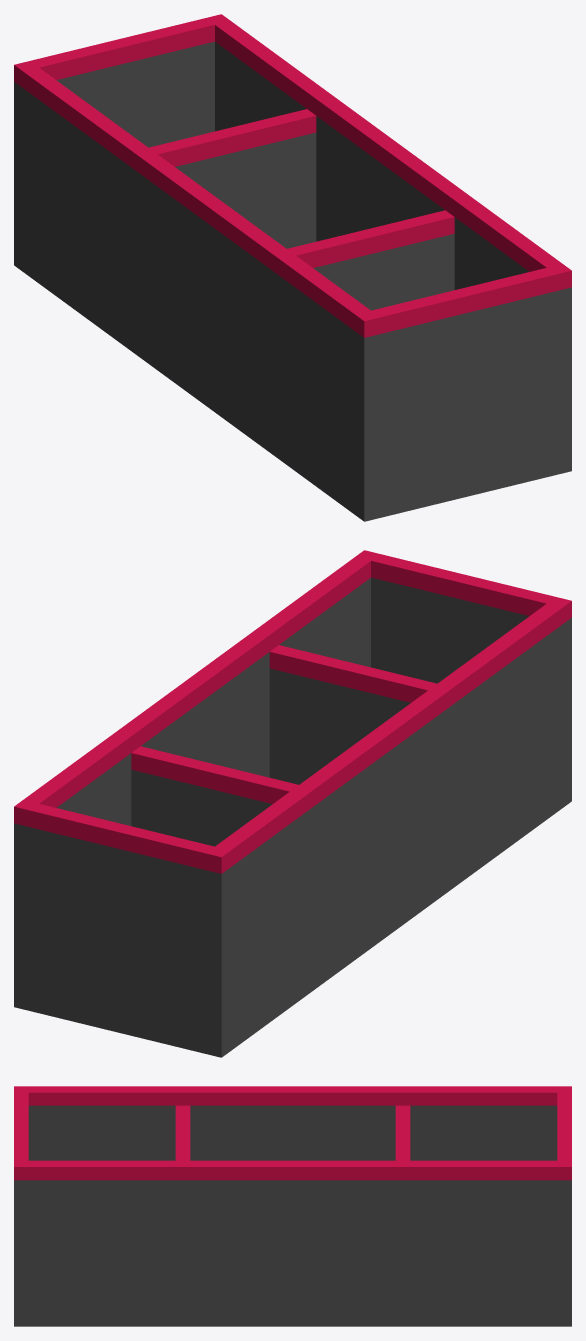
The model's file is youki hasi.kusi.gu.obj.
3 views of the same model, one above another, from view 1: azimuth 30°, elevation 25°; view 2: azimuth 150°, elevation 25°; view 3: azimuth 270°, elevation 25° (orthographic). The views are drawn at different scales.
Size of the model in its own units: 1.3 by 1.2 by 3.8.
1 material, 1 textured.
